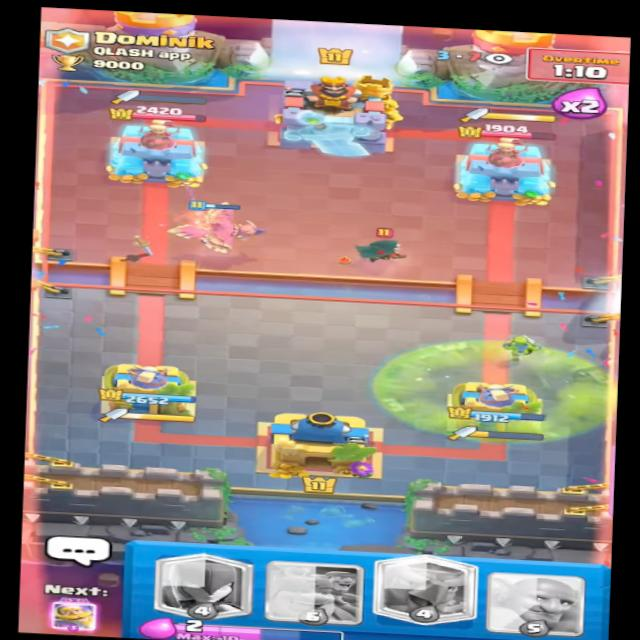Bandit: (349, 224, 413, 269)
